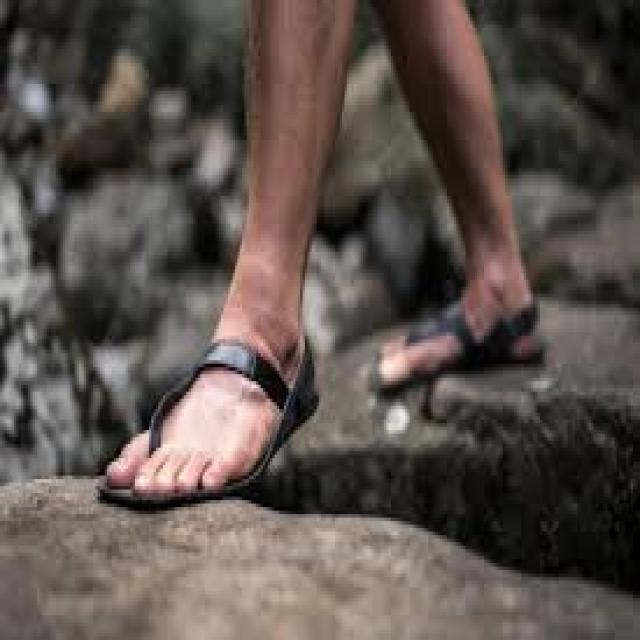No_Shoe: (104, 320, 318, 507)
